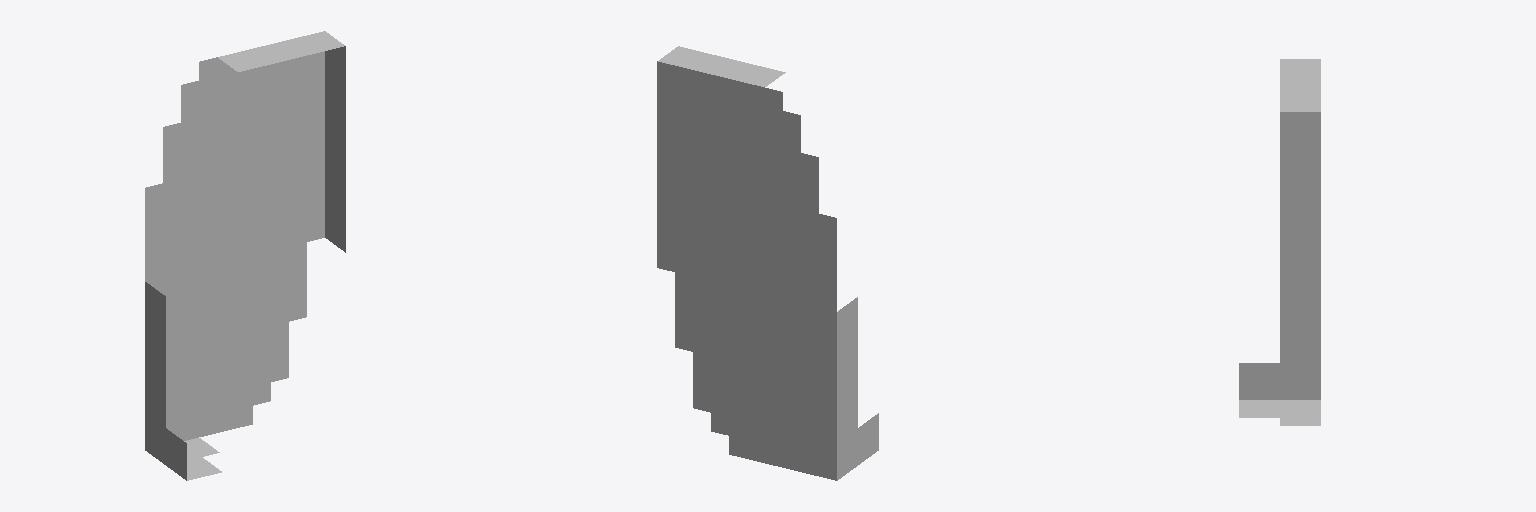
Rendered from elytra_left.obj.
3 views of the same model, side by side, from view 1: azimuth 30°, elevation 25°; view 2: azimuth 150°, elevation 25°; view 3: azimuth 270°, elevation 25° (orthographic).
Parts seen in each view (by area): view 1: left_wing; view 2: left_wing; view 3: left_wing.
Boxes of the visible parts, x1,y1,x2,y2 form: left_wing: [145, 31, 345, 480]; left_wing: [657, 46, 878, 480]; left_wing: [1239, 59, 1320, 425].
Size of the model in its own units: 0.6403 by 1.28 by 0.2561.